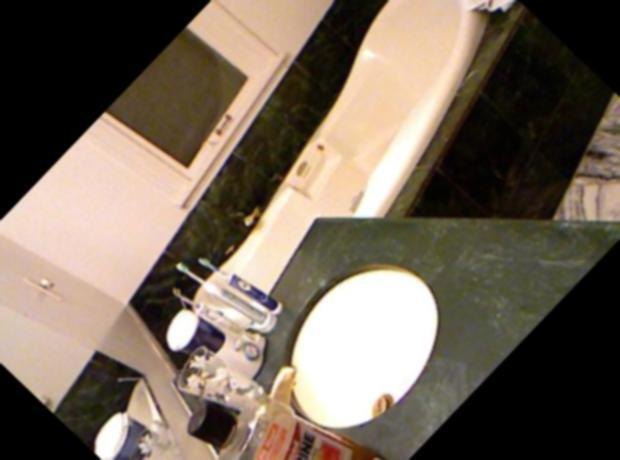Lavamanos: (168, 214, 502, 460)
